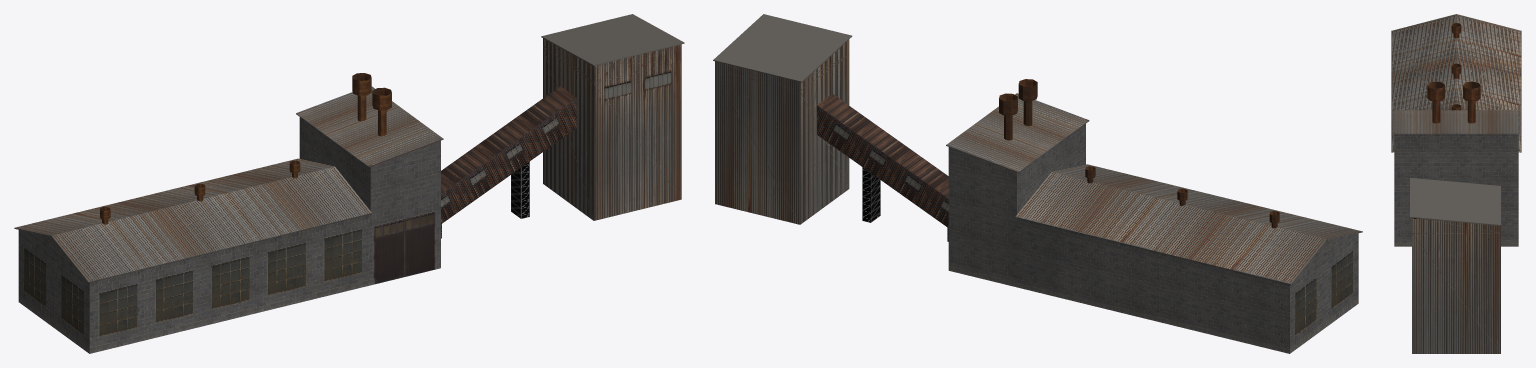
File: ps1_style_factory_building.glb
3 views of the same model, side by side, from view 1: azimuth 30°, elevation 25°; view 2: azimuth 150°, elevation 25°; view 3: azimuth 270°, elevation 25° (orthographic). The views are drawn at different scales.
Parts seen in each view (by area): view 1: Factory_Building_Main, Roof_01, Steel_Construction, Factory_Building_Main_1, Steel_Construction_1, Roof_02, Roof_03, Chimney_Big, Steel_Construction_Beam, Chimney_Small; view 2: Factory_Building_Main, Roof_01, Steel_Construction, Factory_Building_Main_1, Steel_Construction_1, Roof_03, Roof_02, Chimney_Big, Steel_Construction_Beam; view 3: Steel_Construction, Roof_01, Factory_Building_Main_1, Roof_03, Roof_02, Chimney_Big, Chimney_Small.
Part boxes in pixels (x1,y1,x2,y2): Factory_Building_Main: (18, 214, 370, 353); Roof_01: (14, 158, 372, 282); Steel_Construction: (543, 38, 681, 220); Factory_Building_Main_1: (299, 117, 440, 285); Steel_Construction_1: (441, 86, 576, 223); Roof_02: (296, 86, 443, 167); Roof_03: (541, 14, 684, 65); Chimney_Big: (352, 73, 391, 136); Steel_Construction_Beam: (511, 161, 529, 218); Chimney_Small: (100, 160, 300, 224); Factory_Building_Main: (1017, 218, 1358, 353); Roof_01: (1015, 164, 1362, 284); Steel_Construction: (715, 39, 849, 224); Factory_Building_Main_1: (948, 124, 1085, 287); Steel_Construction_1: (817, 94, 948, 227); Roof_03: (713, 14, 852, 82); Roof_02: (946, 93, 1089, 172); Chimney_Big: (999, 79, 1037, 140); Steel_Construction_Beam: (862, 167, 880, 222); Steel_Construction: (1412, 218, 1500, 353); Roof_01: (1391, 14, 1521, 152); Factory_Building_Main_1: (1394, 134, 1518, 246); Roof_03: (1410, 177, 1500, 225); Roof_02: (1392, 110, 1520, 134); Chimney_Big: (1427, 81, 1480, 123); Chimney_Small: (1451, 23, 1461, 110).
Size of the model in its own units: 69.06 by 18.2 by 14.63.
Materials: 3 (3 with a texture image).
